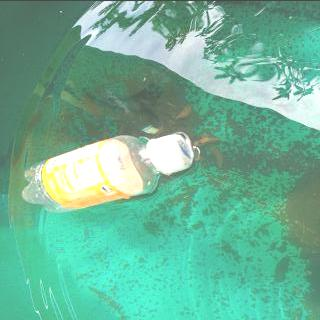bottle: (19, 132, 197, 214)
